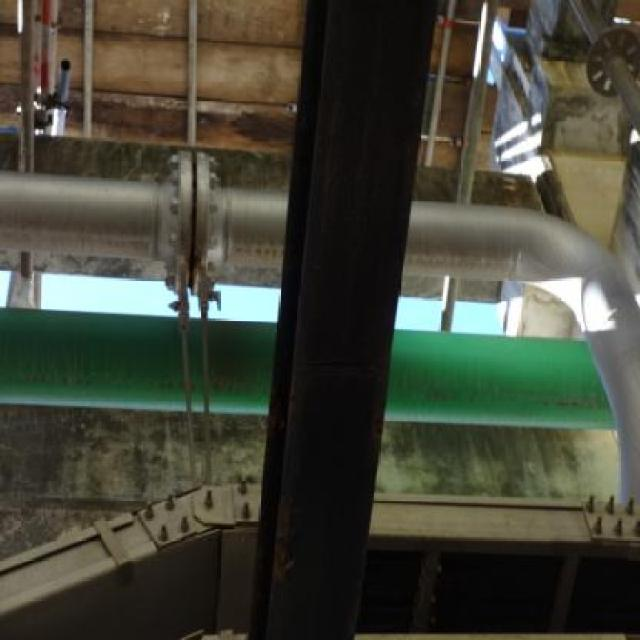gas: (404, 204, 640, 505), (0, 311, 278, 419), (0, 174, 289, 265), (387, 330, 617, 429), (572, 2, 640, 132)
